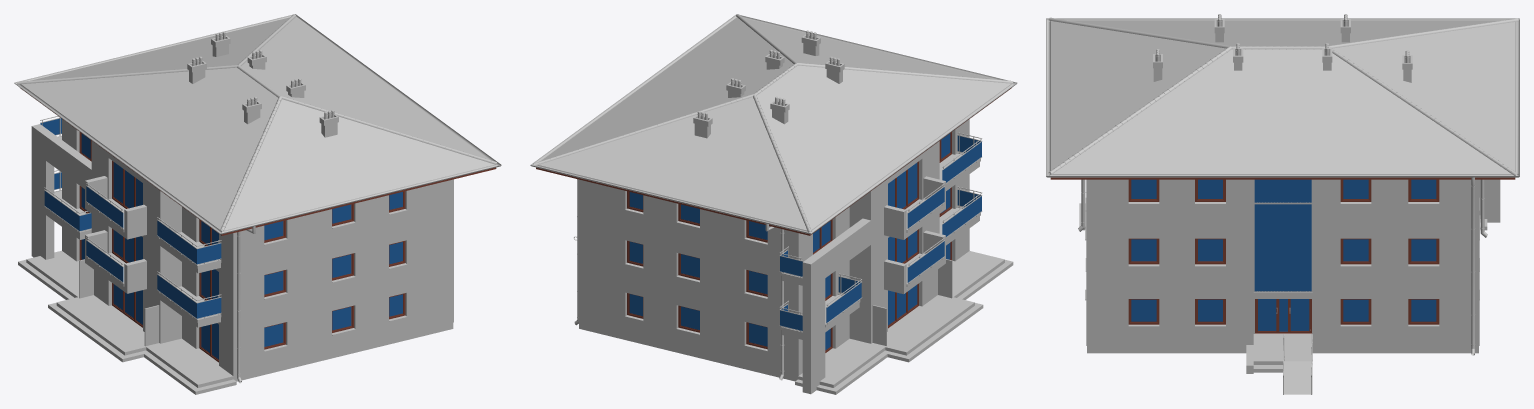
Rendered from Residential_House.obj.
3 views of the same model, side by side, from view 1: azimuth 30°, elevation 25°; view 2: azimuth 150°, elevation 25°; view 3: azimuth 270°, elevation 25° (orthographic). The views are drawn at different scales.
Parts seen in each view (by area): view 1: Residential_House; view 2: Residential_House; view 3: Residential_House.
Boxes of the visible parts, <box> form: Residential_House: <box>14,14,501,394</box>; Residential_House: <box>530,14,1017,394</box>; Residential_House: <box>1046,14,1519,394</box>.
Bounding box in the file's own units: 25.79 × 15.28 × 25.57.
